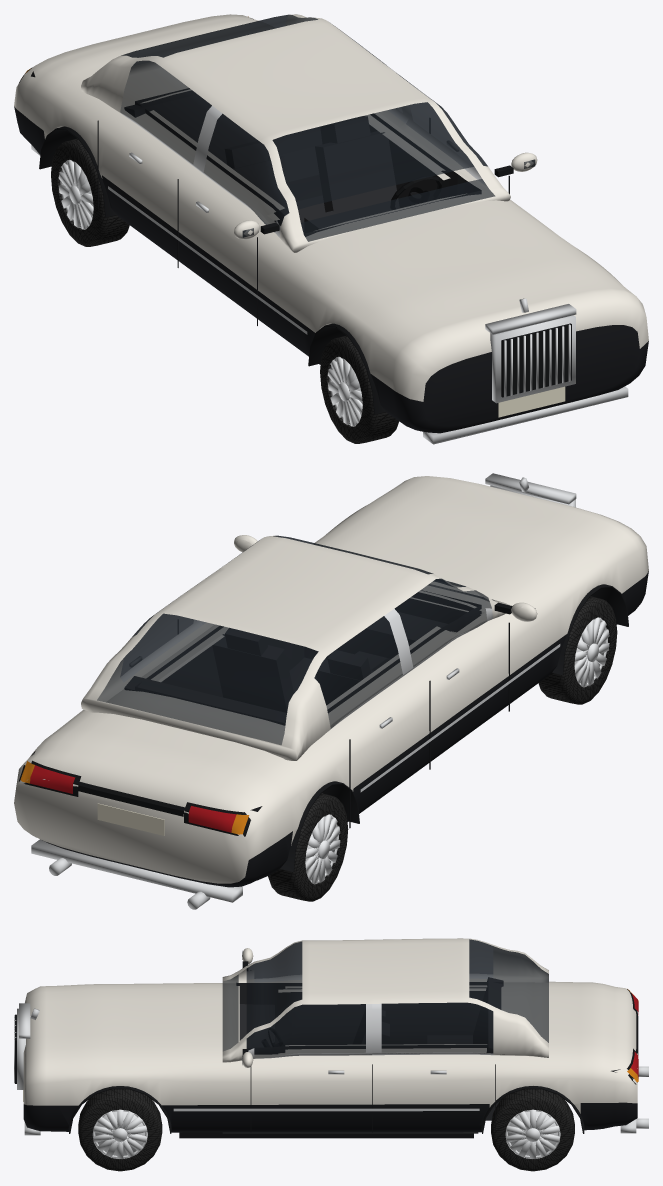
The model's file is car_lux.glb.
3 views of the same model, one above another, from view 1: azimuth 30°, elevation 25°; view 2: azimuth 150°, elevation 25°; view 3: azimuth 270°, elevation 25° (orthographic). The views are drawn at different scales.
Parts seen in each view (by area): view 1: Body, wheel_FR, wheel_RR, Door_L; view 2: Body, wheel_RR, wheel_FR; view 3: Body, Door_L, wheel_FL, wheel_RL.
Part boxes in pixels (<box>): Body: <box>14,14,648,444</box>; wheel_FR: <box>320,335,399,443</box>; wheel_RR: <box>51,138,129,246</box>; Door_L: <box>393,70,485,186</box>; Body: <box>14,473,648,909</box>; wheel_RR: <box>268,793,348,901</box>; wheel_FR: <box>538,596,617,704</box>; Body: <box>14,938,648,1138</box>; Door_L: <box>251,1004,372,1129</box>; wheel_FL: <box>78,1089,162,1171</box>; wheel_RL: <box>491,1089,574,1171</box>.
Size of the model in its own units: 2.36 by 1.55 by 5.59.
13 materials, 1 textured.
